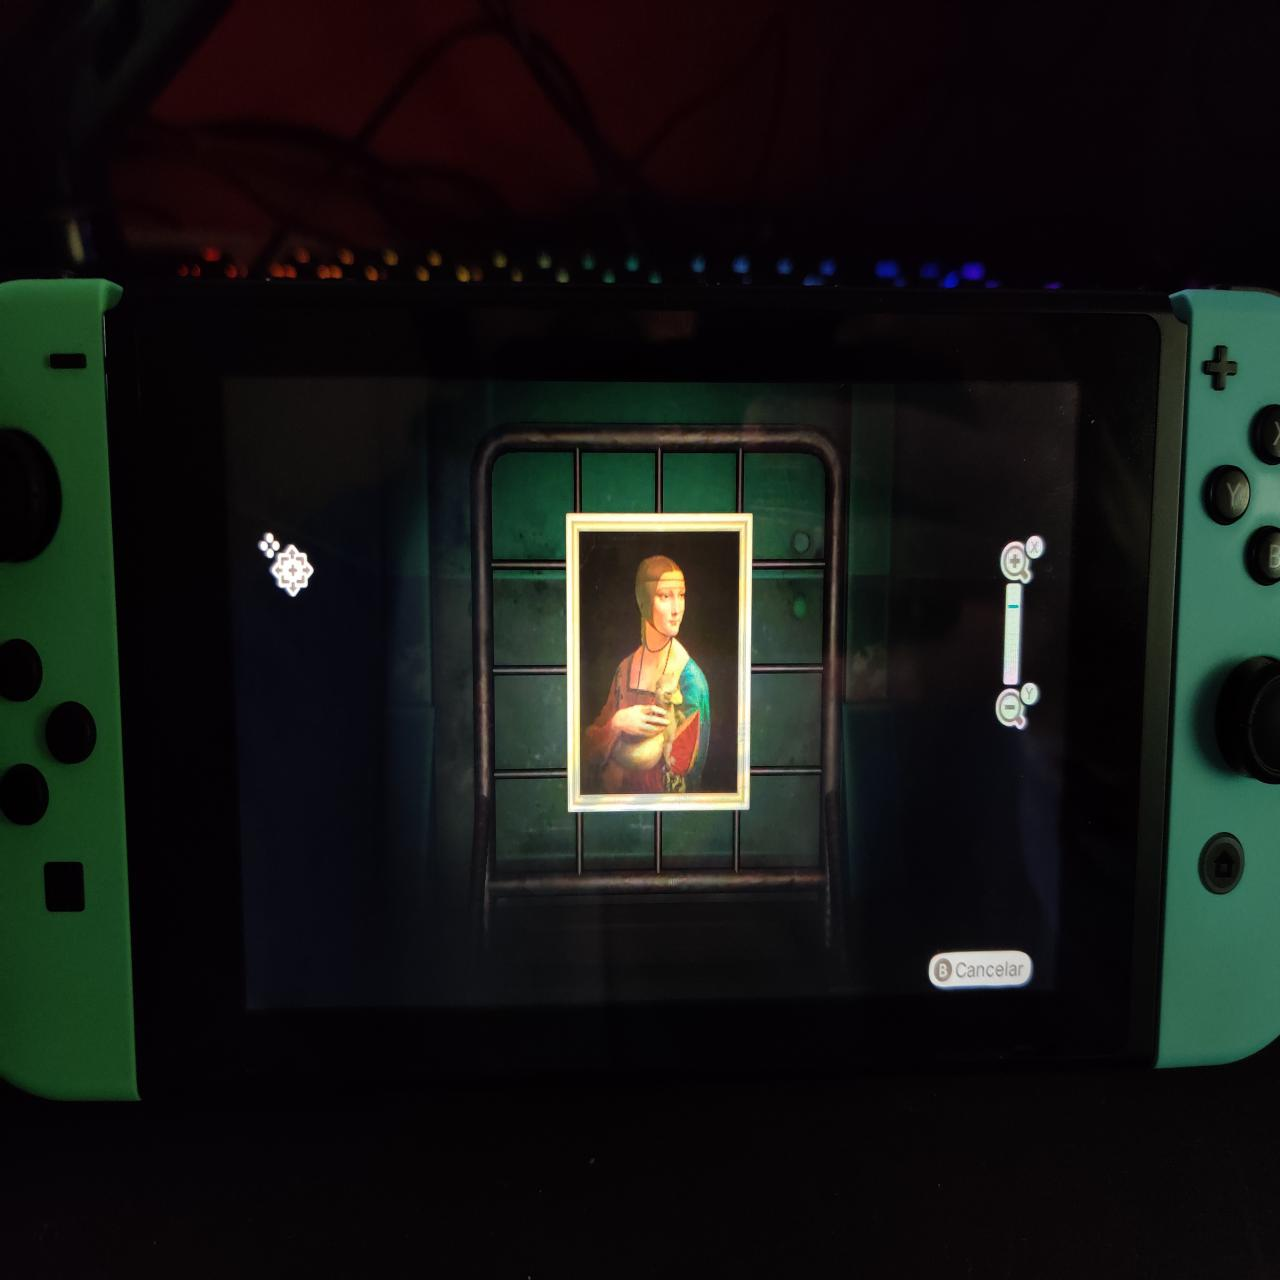PortraitCeciliaFake: (582, 533, 737, 795)
